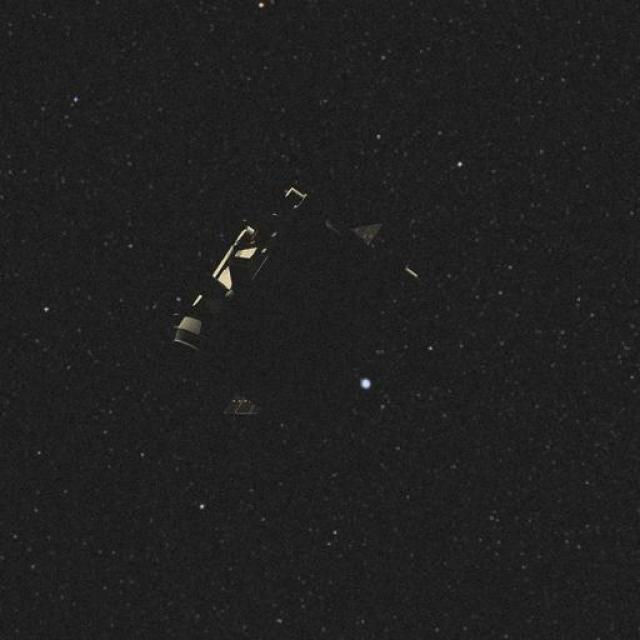proba_3_csc: (172, 180, 454, 422)
